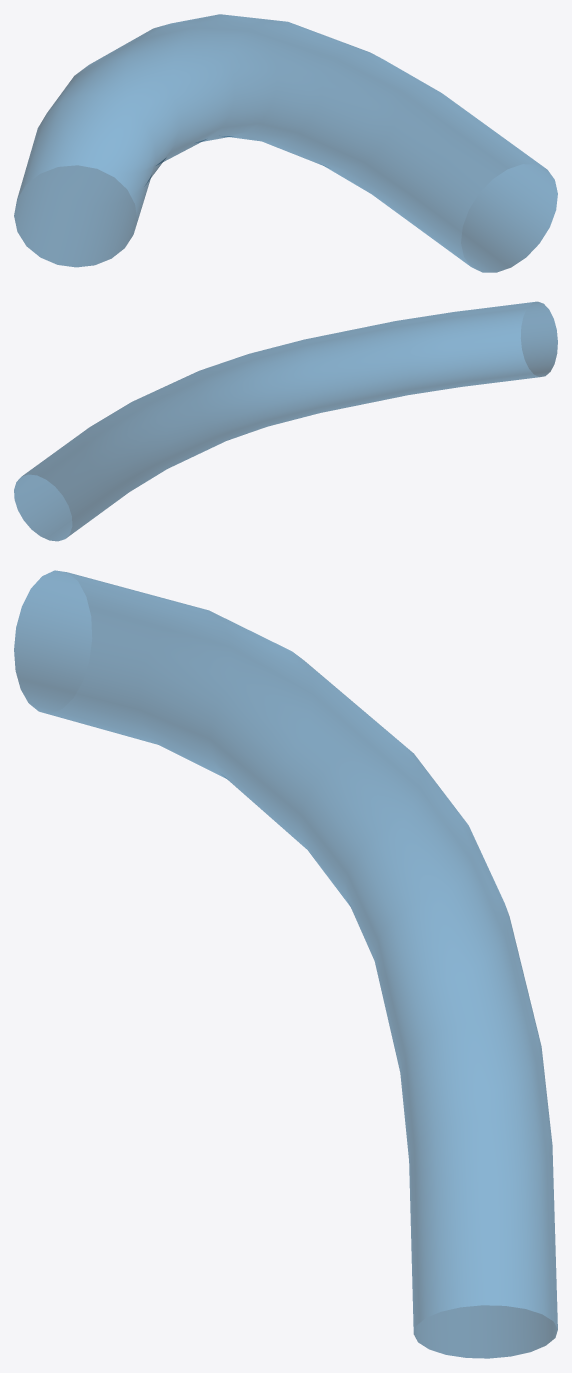
File: lacPromoter_holder.glb
3 views of the same model, one above another, from view 1: azimuth 30°, elevation 25°; view 2: azimuth 150°, elevation 25°; view 3: azimuth 270°, elevation 25° (orthographic). The views are drawn at different scales.
Visible parts, largest first — view 1: lacPromoter; view 2: lacPromoter; view 3: lacPromoter.
Part boxes in pixels (x1,y1,x2,y2): lacPromoter: (14,14,557,272); lacPromoter: (14,301,557,541); lacPromoter: (14,570,557,1358).
Bounding box in the file's own units: 0.6223 × 0.3318 × 0.358.
Materials: 1 (1 with a texture image).
